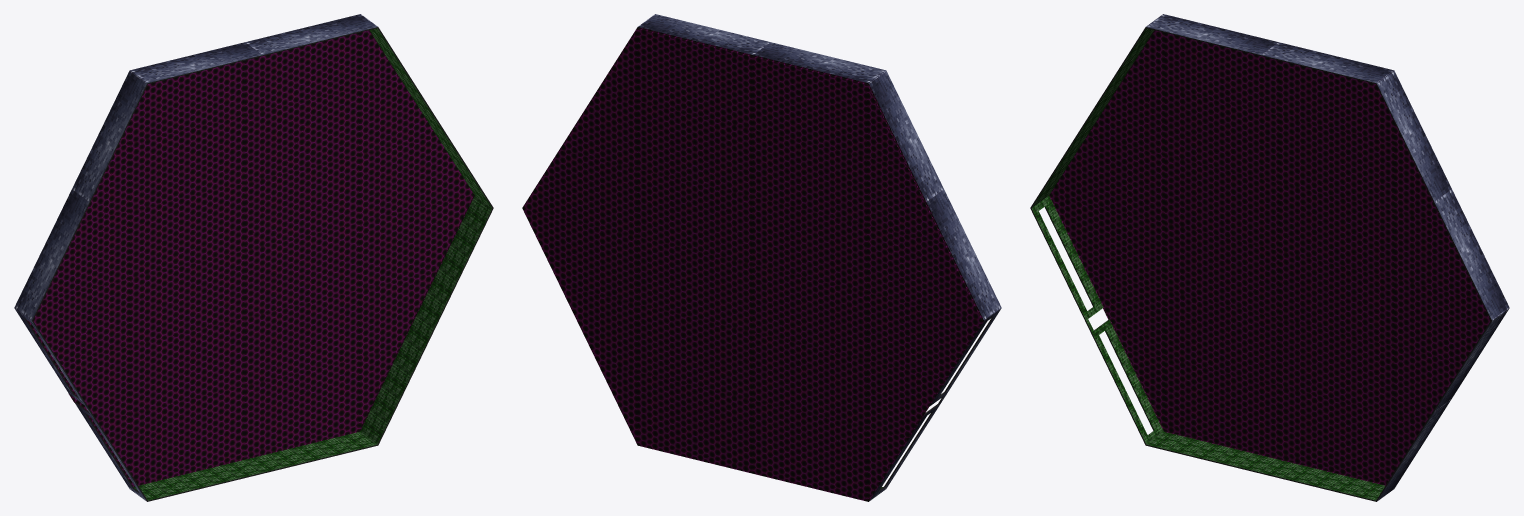
Rendered from station.obj.
The picture shows the model from 3 angles, left to right: view 1: azimuth 30°, elevation 25°; view 2: azimuth 150°, elevation 25°; view 3: azimuth 330°, elevation 25°; orthographic projection.
Parts seen in each view (by area): view 1: Group4, Group2, Group1, Group3; view 2: Group4, Group1; view 3: Group4, Group1, Group2, Group3.
Boxes of the visible parts, box(x1,y1,x2,y2) form: Group4: box(27, 30, 474, 486); Group2: box(133, 28, 492, 500); Group1: box(14, 14, 377, 501); Group3: box(24, 27, 493, 501); Group4: box(522, 27, 983, 501); Group1: box(638, 14, 1001, 501); Group4: box(1049, 30, 1490, 485); Group1: box(1146, 14, 1509, 501); Group2: box(1031, 28, 1384, 500); Group3: box(1030, 27, 1491, 501).
Bounding box in the file's own units: 40.23 × 34.84 × 2.76.
